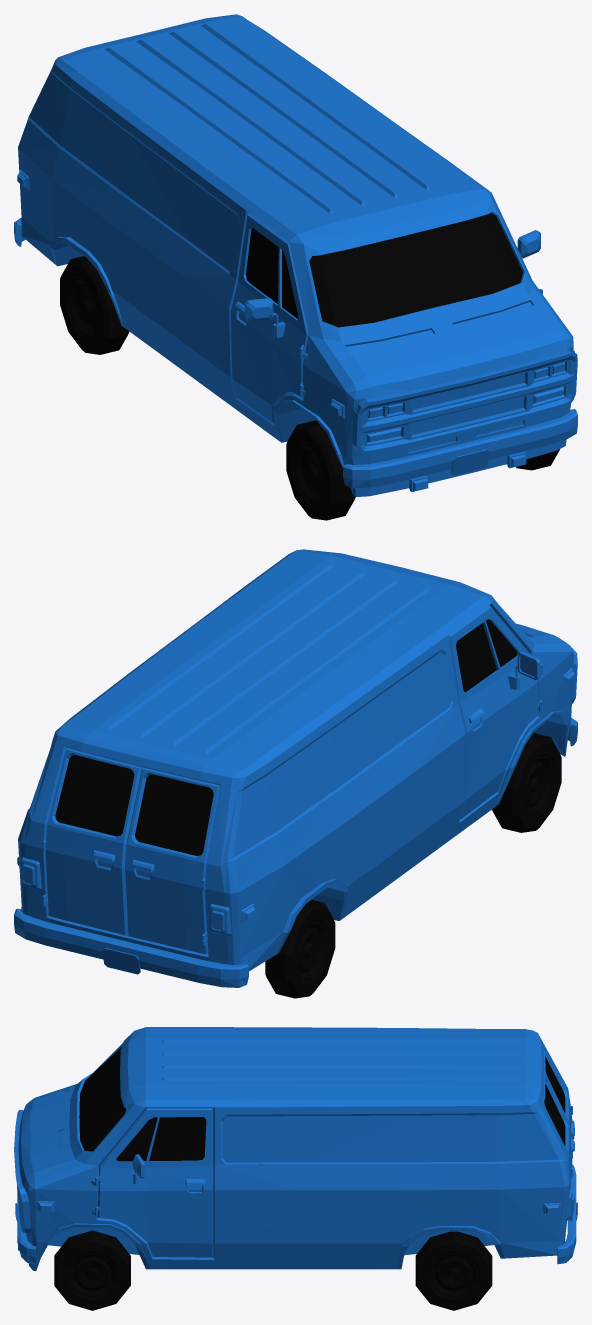
Rendered from HALF_minibus_1.fbx.
3 views of the same model, one above another, from view 1: azimuth 30°, elevation 25°; view 2: azimuth 150°, elevation 25°; view 3: azimuth 270°, elevation 25° (orthographic). The views are drawn at different scales.
Visible parts, largest first — view 1: Cube, Cylinder_3, Cylinder_6; view 2: Cube, Symmetry_14, Cylinder_6, Cylinder_3; view 3: Cube, Cylinder_6, Cylinder_2, Symmetry_14.
Part boxes in pixels (x1=…): Cube: x1=14, y1=14, x2=577, y2=496; Cylinder_3: x1=286, y1=420, x2=355, y2=520; Cylinder_6: x1=60, y1=256, x2=129, y2=354; Cube: x1=14, y1=549, x2=577, y2=987; Symmetry_14: x1=125, y1=767, x2=220, y2=954; Cylinder_6: x1=265, y1=899, x2=335, y2=998; Cylinder_3: x1=492, y1=733, x2=561, y2=832; Cube: x1=14, y1=1027, x2=577, y2=1270; Cylinder_6: x1=415, y1=1231, x2=492, y2=1310; Cylinder_2: x1=54, y1=1230, x2=130, y2=1310; Symmetry_14: x1=542, y1=1044, x2=574, y2=1138.
Size of the model in its own units: 236 by 199 by 490.
